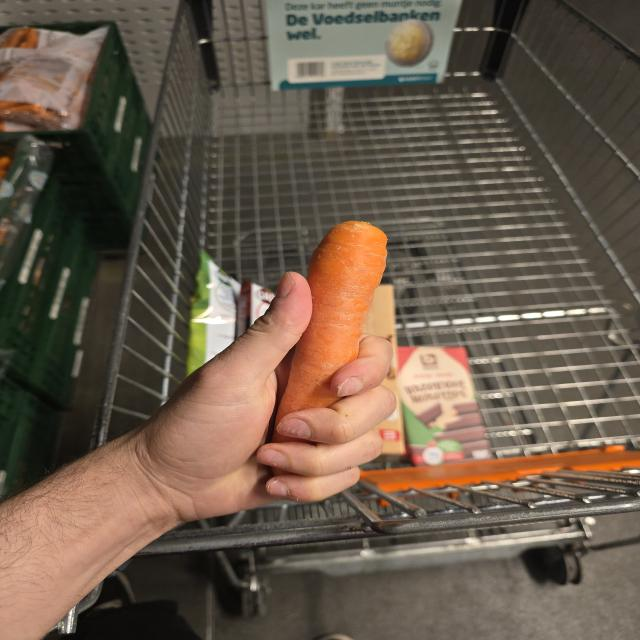Carrot: (270, 221, 387, 443)
